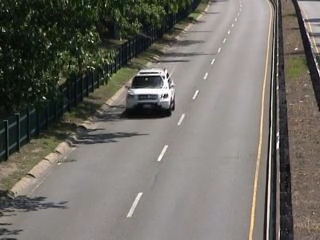car: (122, 65, 179, 119)
